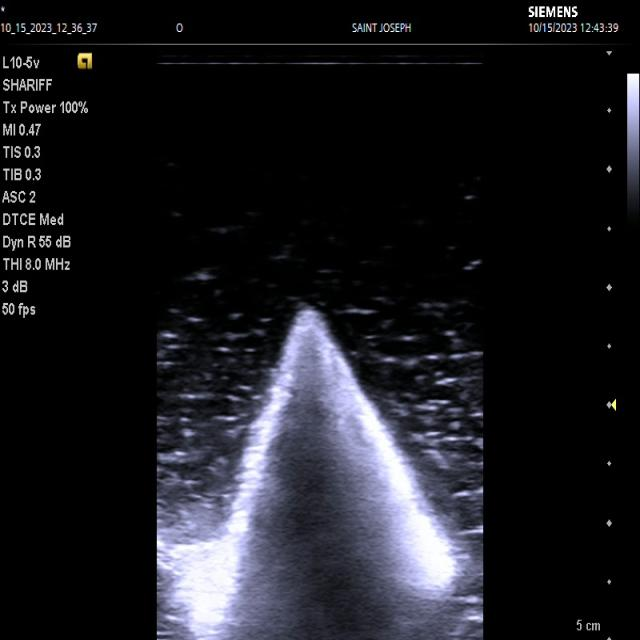tissue: (222, 303, 463, 640)
